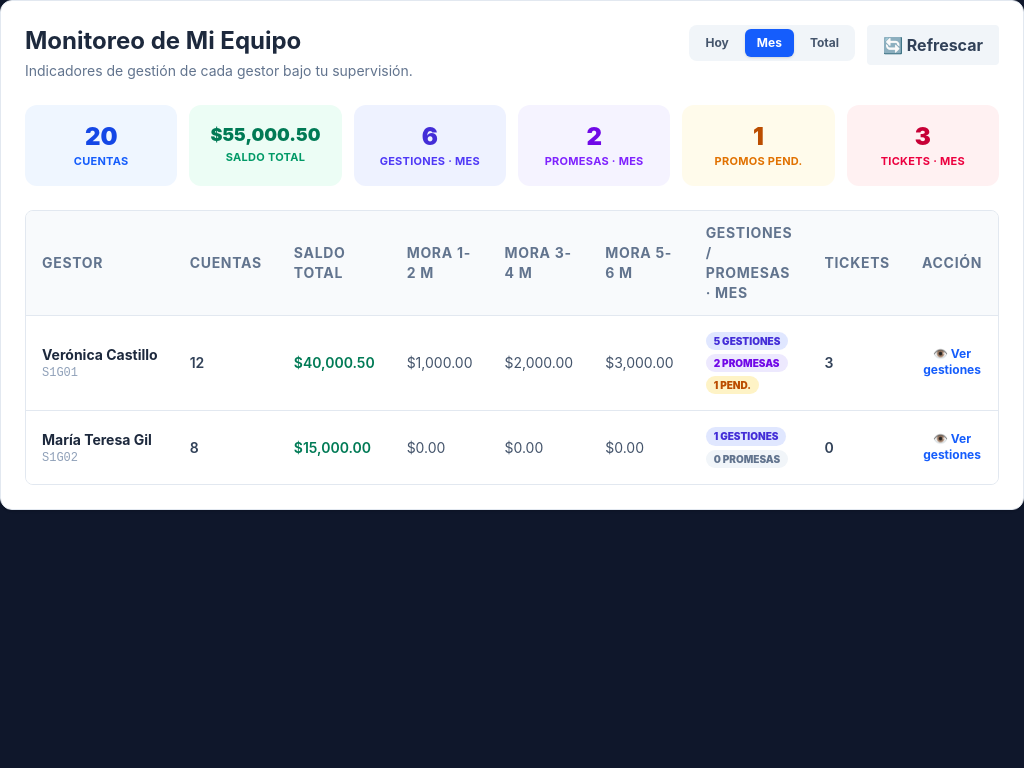
Scenario: SupervisionPanel: detalhe de gestiones › cierra el modal con la X
This screenshot has width=1024, height=768.
Expected: the text "Verónica Castillo" is shown, left=42, top=345, right=158, bottom=365
Click the button "👁 Ver gestiones" in the row of "Verónica Castillo".
click(952, 362)  # box left=922, top=346, right=982, bottom=378
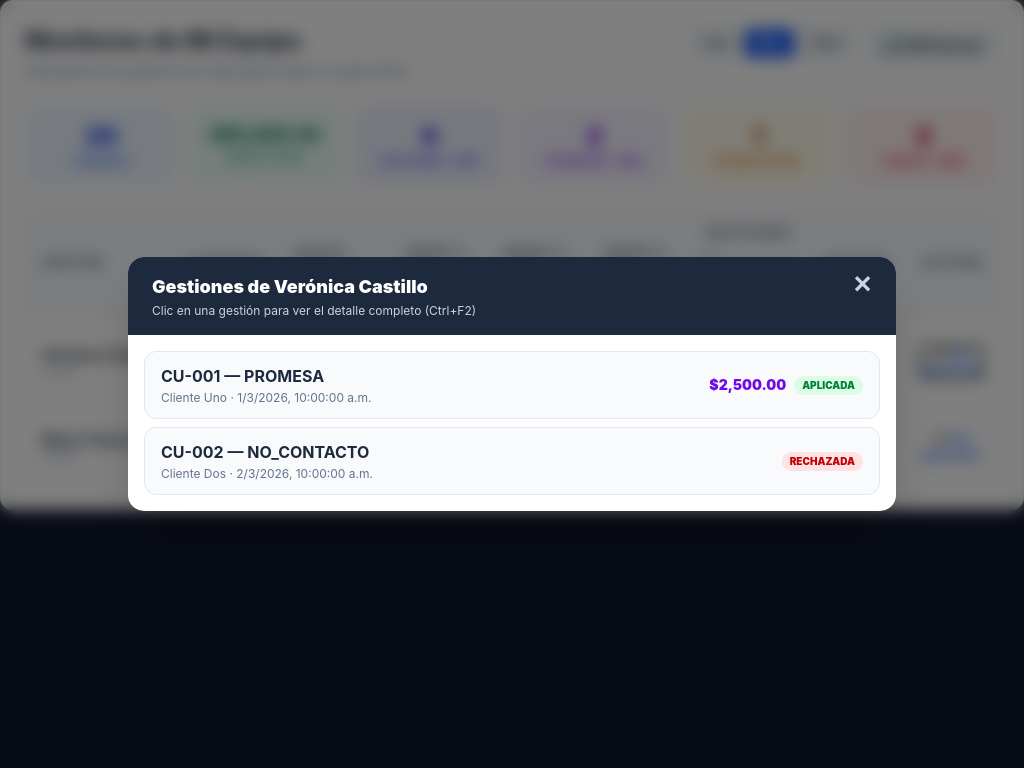
Expected: the heading "Gestiones de Verónica Castillo" is shown, left=152, top=273, right=476, bottom=301
Click the button "✕".
click(862, 285)  # box left=852, top=273, right=872, bottom=297
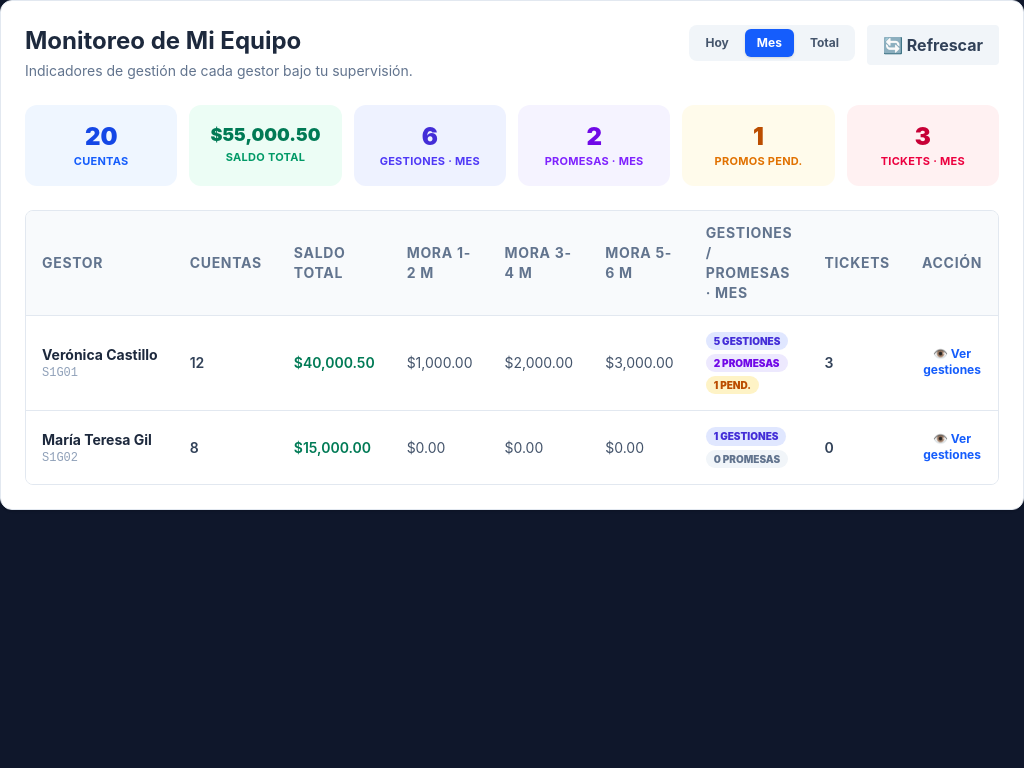
Expected: the heading "Gestiones de Verónica Castillo" is gone
